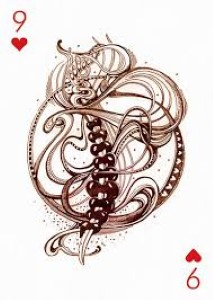NineOfHearts: (4, 3, 206, 289)
